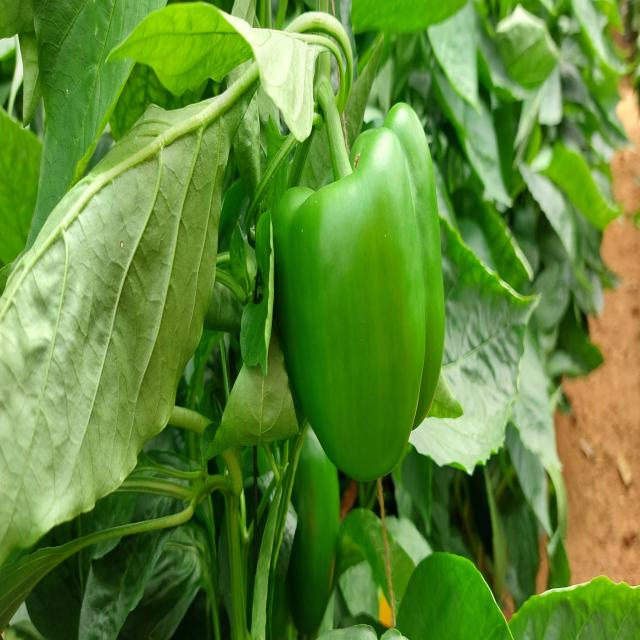Green--Not-ready-to-harvest: (271, 98, 444, 490)
